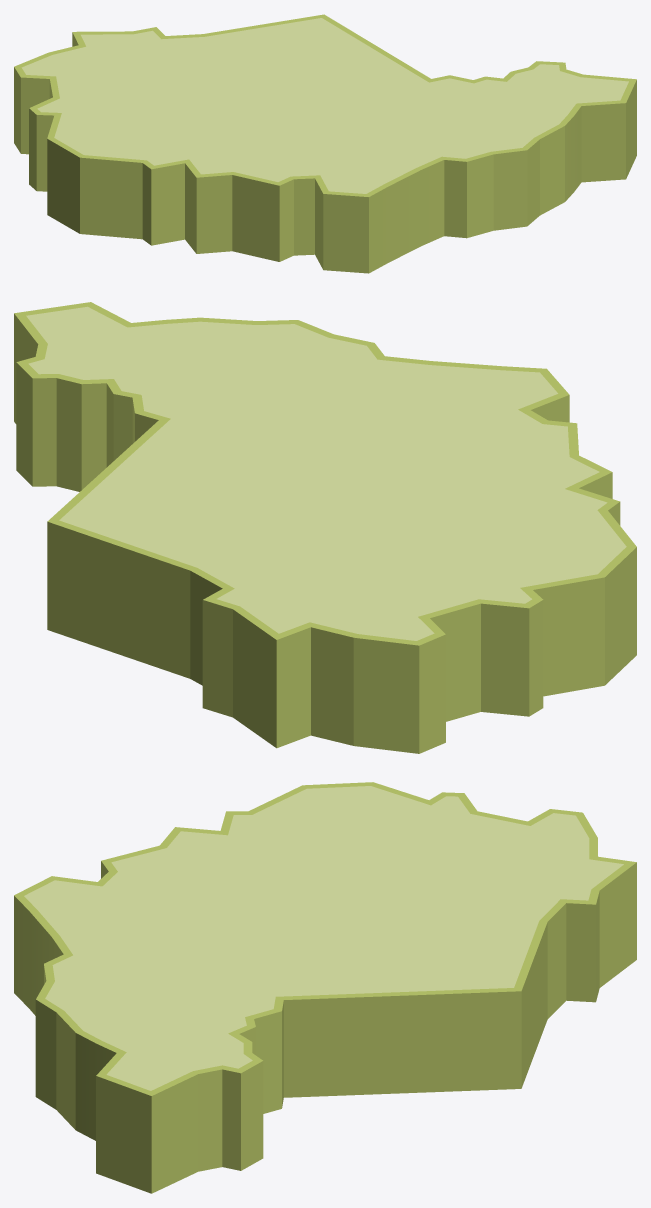
Rendered from Islands5.003.fbx.
The picture shows the model from 3 angles, top to bottom: view 1: azimuth 30°, elevation 25°; view 2: azimuth 150°, elevation 25°; view 3: azimuth 270°, elevation 25°; orthographic projection. The views are drawn at different scales.
Visible parts, largest first — view 1: Island5.003; view 2: Island5.003; view 3: Island5.003.
Part boxes in pixels (<box>): Island5.003: <box>14,14,636,273</box>; Island5.003: <box>14,302,636,753</box>; Island5.003: <box>14,782,636,1193</box>.
Size of the model in its own units: 172 by 25 by 145.
